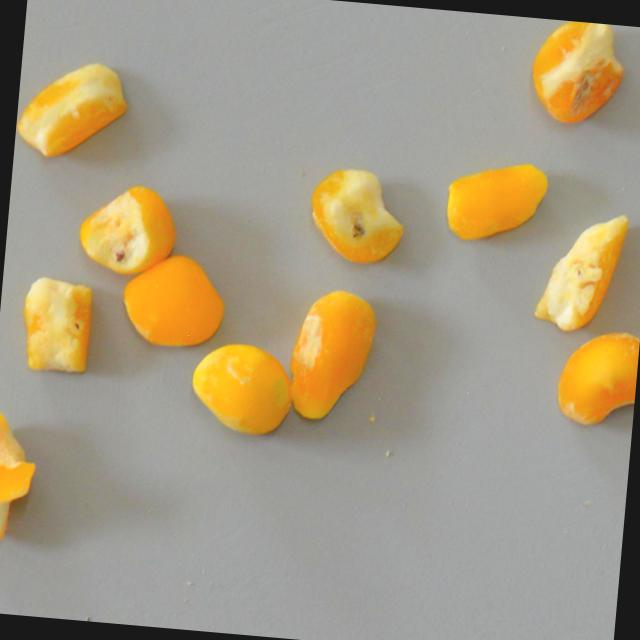dañado: (525, 18, 629, 130), (75, 178, 185, 283), (556, 326, 640, 433)
estandar: (120, 245, 231, 360)
pelicula: (275, 281, 383, 425), (14, 51, 134, 169), (182, 328, 302, 446), (445, 150, 552, 248)
punto_negro: (307, 162, 412, 270), (546, 198, 621, 339), (16, 272, 98, 380), (0, 407, 40, 547)
